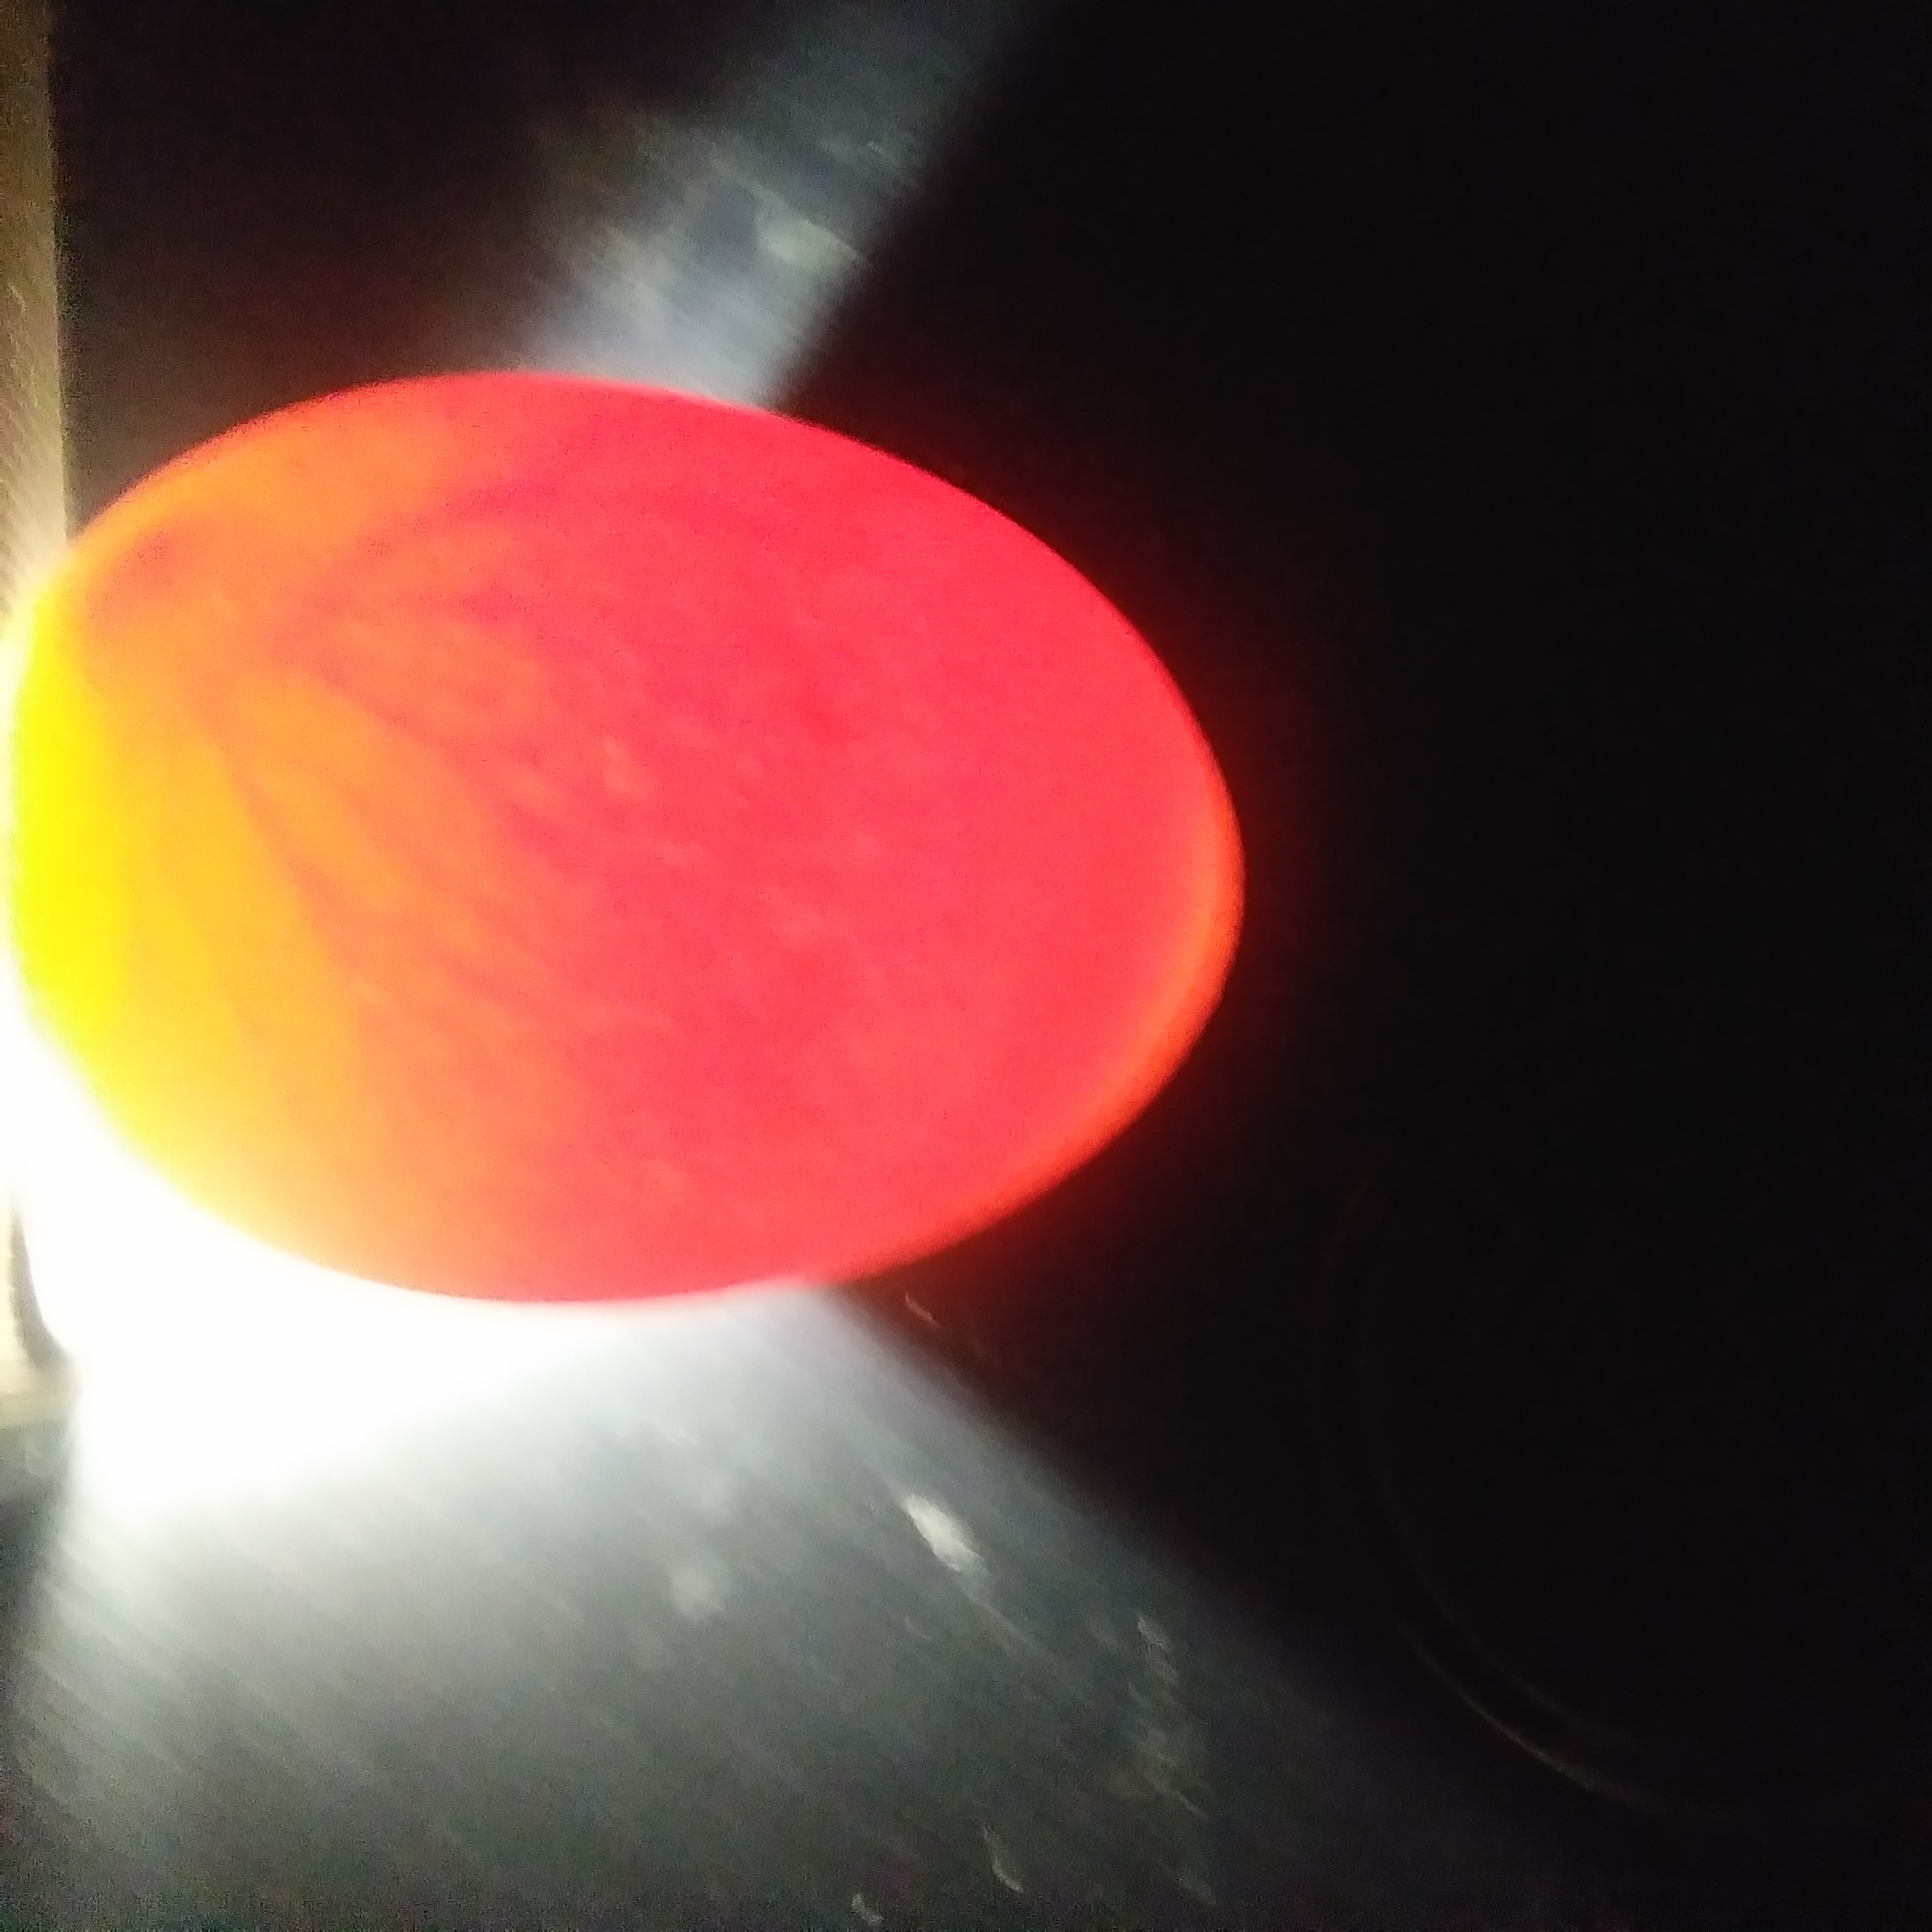bloodcell: (237, 538, 651, 1035)
embryo: (76, 534, 188, 676)
